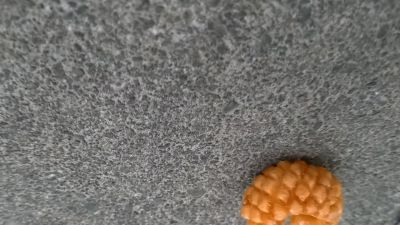eggs: (239, 156, 343, 225)
